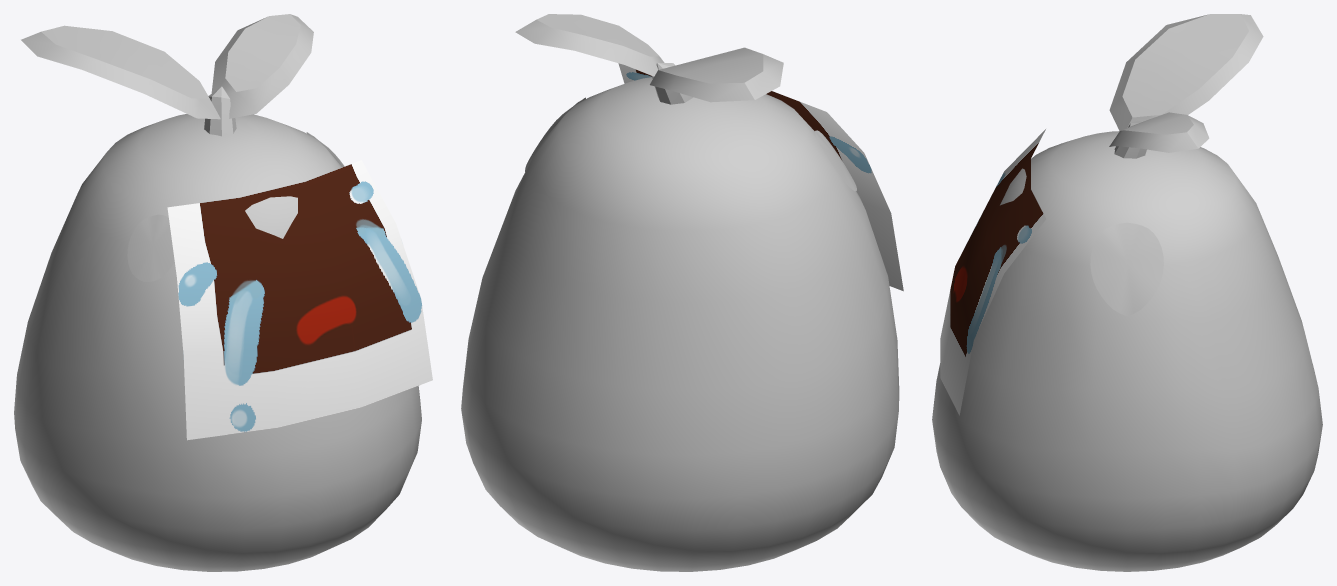
Rendered from Potato.fbx.
3 views of the same model, side by side, from view 1: azimuth 30°, elevation 25°; view 2: azimuth 150°, elevation 25°; view 3: azimuth 270°, elevation 25° (orthographic). The views are drawn at different scales.
Visible parts, largest first — view 1: Potato; view 2: Potato; view 3: Potato.
Boxes of the visible parts, x1,y1,x2,y2 form: Potato: (14,14,432,571); Potato: (461,14,903,571); Potato: (932,14,1322,571).
Bounding box in the file's own units: 1.82 × 2.43 × 1.83.
